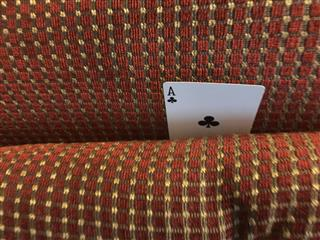AceOfClubs: (162, 81, 265, 138)
